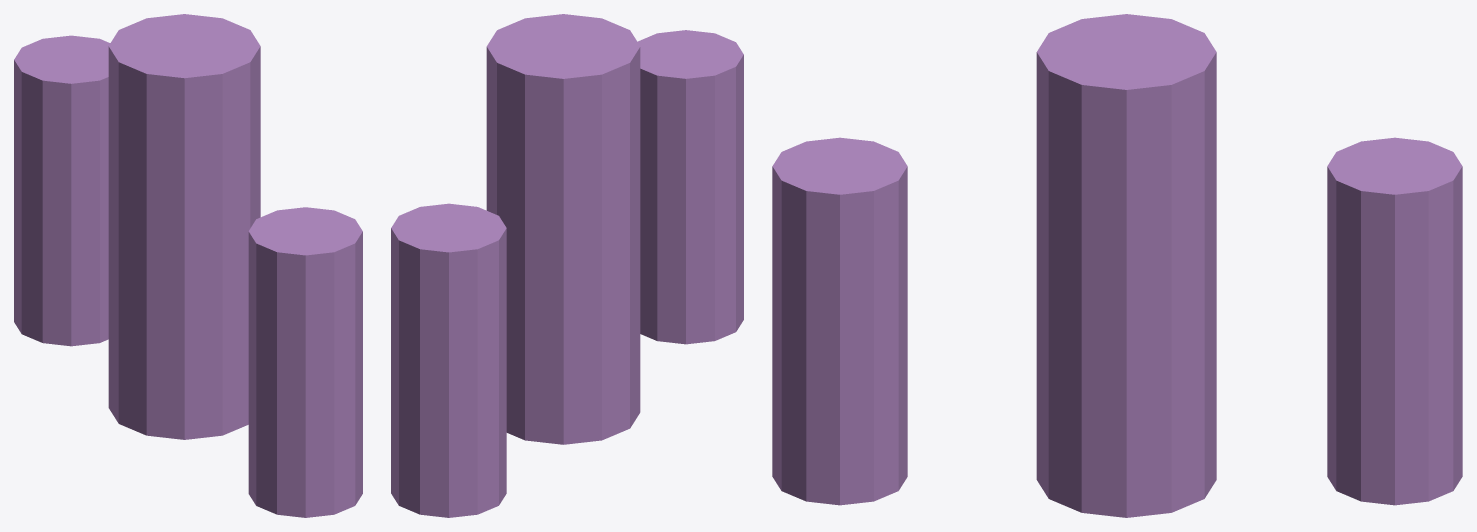
The picture shows the model from 3 angles, left to right: view 1: azimuth 30°, elevation 25°; view 2: azimuth 150°, elevation 25°; view 3: azimuth 270°, elevation 25°; orthographic projection. The views are drawn at different scales.
Visible parts, largest first — view 1: pCylinder4; view 2: pCylinder4; view 3: pCylinder4.
Boxes of the visible parts, x1,y1,x2,y2 form: pCylinder4: [14, 14, 362, 517]; pCylinder4: [391, 14, 743, 517]; pCylinder4: [772, 14, 1462, 517].
Size of the model in its own units: 1.18 by 3.09 by 4.51.
